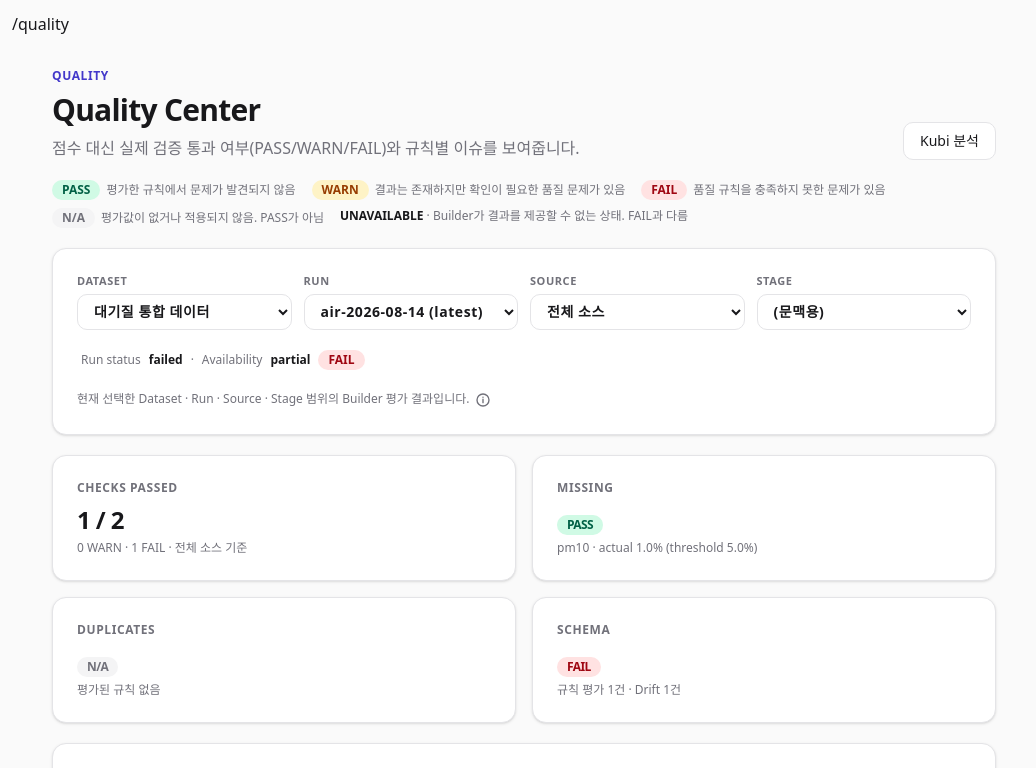
Test: Quality Center P0 (#254) › keeps dataset/run/source context in the URL when the user changes filters
Select "kma__weather" in the dropdown named "Source 선택" at (637, 312), box [530,294,744,330]
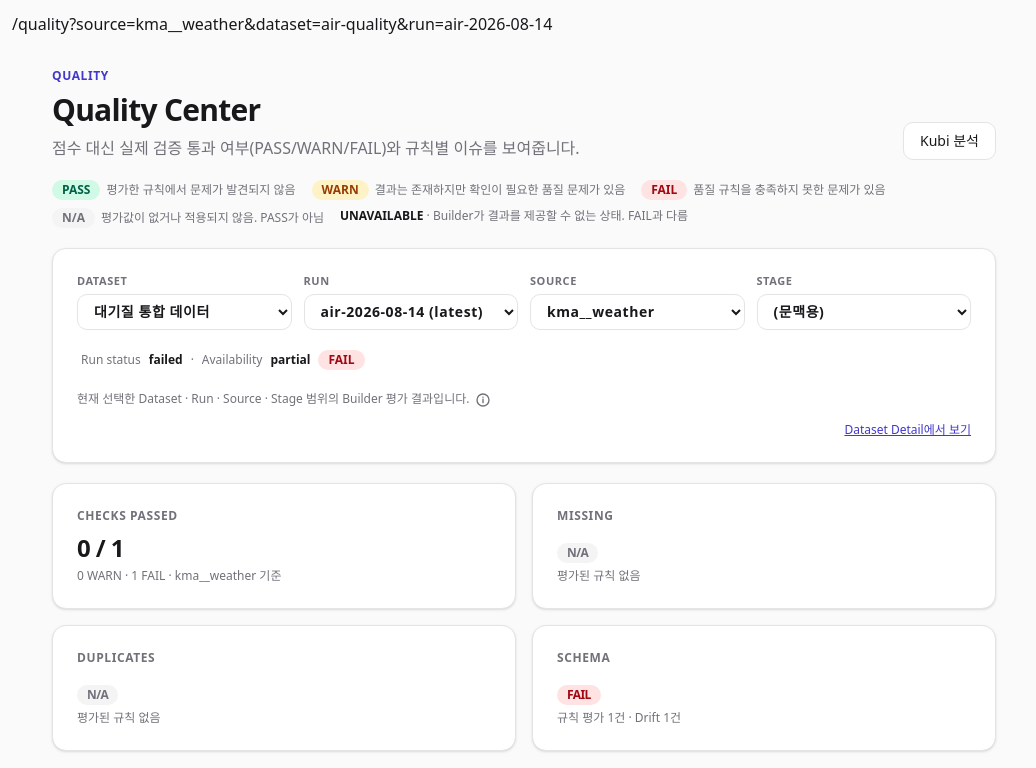
Result: the text with test id "location" shows "source=kma__weather" at [69,13,552,35]
Select "air-2026-08-13" in the dropdown named "Run 선택" at (411, 312), box [304,294,518,330]
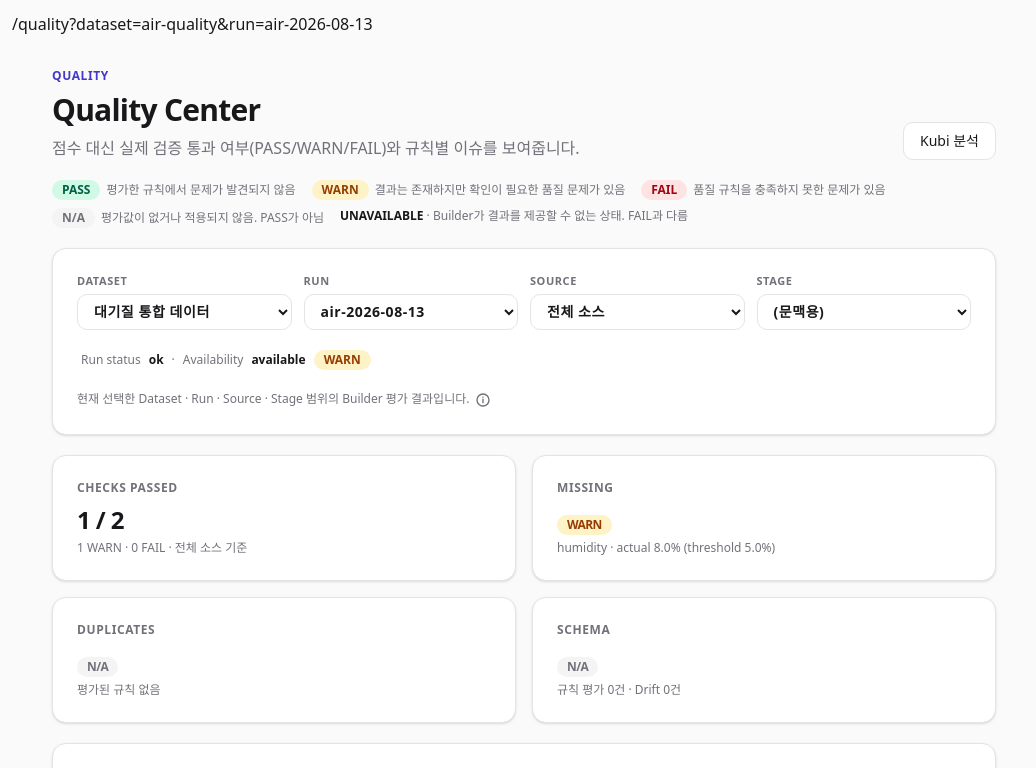
Result: the text with test id "location" shows "run=air-2026-08-13" at [69,13,373,35]
